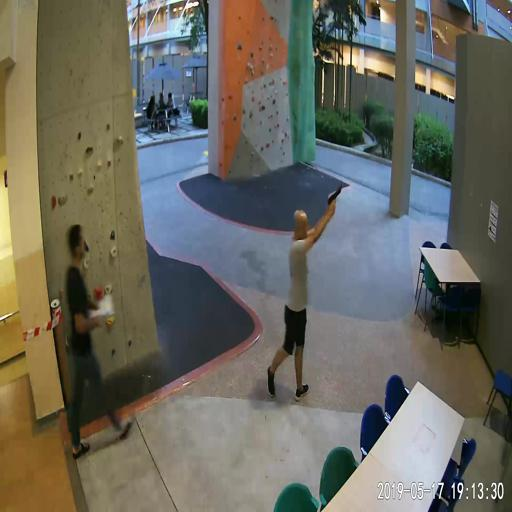pistol: (328, 186, 341, 213)
